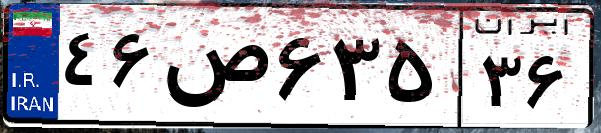3: (330, 28, 385, 110), (475, 38, 525, 113)
4: (57, 26, 110, 100)
5: (385, 28, 445, 110)
6: (270, 28, 330, 110), (525, 38, 570, 115), (110, 28, 158, 98)
ص: (158, 20, 270, 120)
